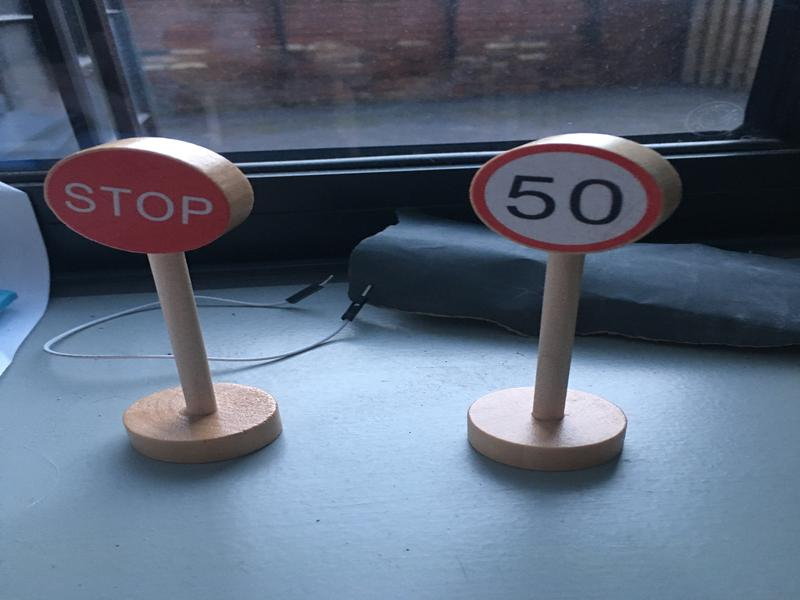Traffic_Sign_50: (469, 147, 664, 252)
Traffic_Sign_Stop: (45, 150, 231, 253)
